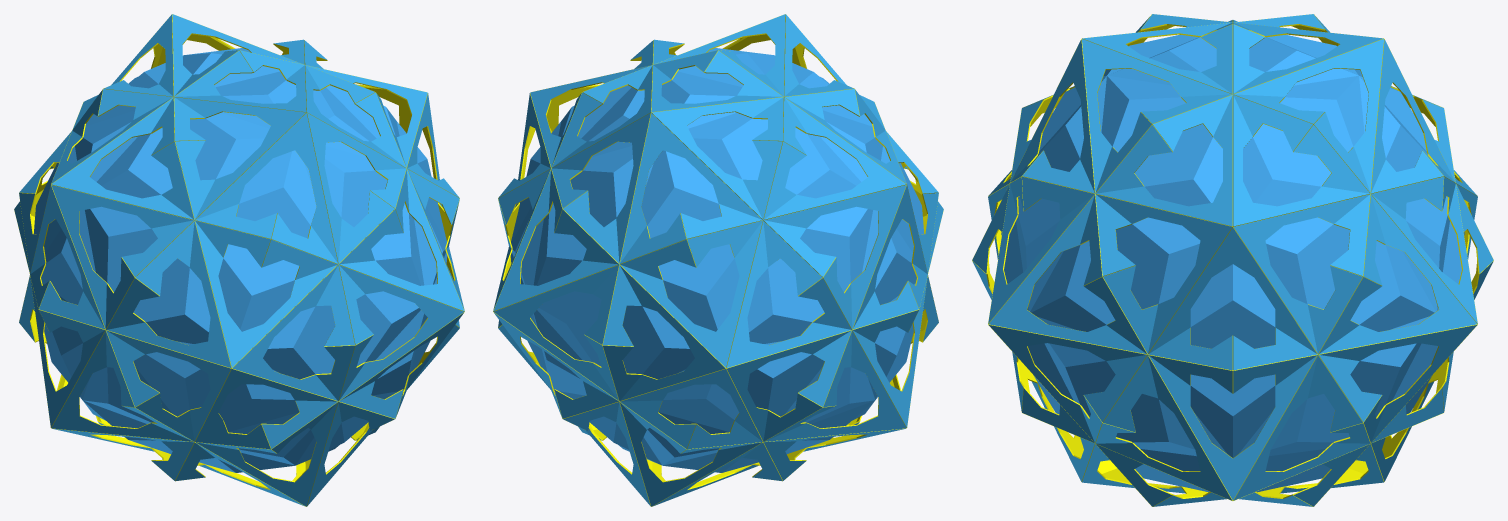
File: MedialDeltoidalHexecontahedronS1.glb
3 renders of one model, left to right at view 1: azimuth 30°, elevation 25°; view 2: azimuth 150°, elevation 25°; view 3: azimuth 270°, elevation 25°, orthographic. The views are drawn at different scales.
Parts seen in each view (by area): view 1: Mesh_0.003, Mesh_1.003; view 2: Mesh_0.003, Mesh_1.003; view 3: Mesh_0.003, Mesh_1.003.
Boxes of the visible parts, box(x1,y1,x2,y2) form: Mesh_0.003: box(14, 14, 464, 506); Mesh_1.003: box(33, 48, 447, 472); Mesh_0.003: box(493, 14, 943, 506); Mesh_1.003: box(510, 48, 924, 472); Mesh_0.003: box(972, 14, 1493, 506); Mesh_1.003: box(1001, 35, 1464, 492).
Size of the model in its own units: 9.39 by 9.39 by 9.39.
